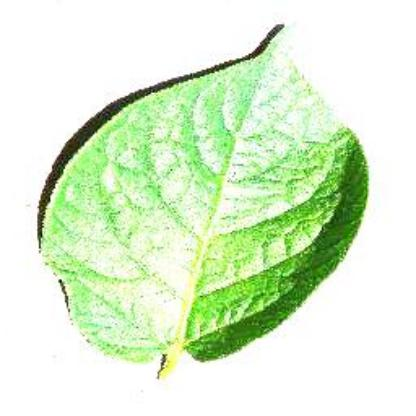Healthy-plant: (38, 23, 376, 383)
